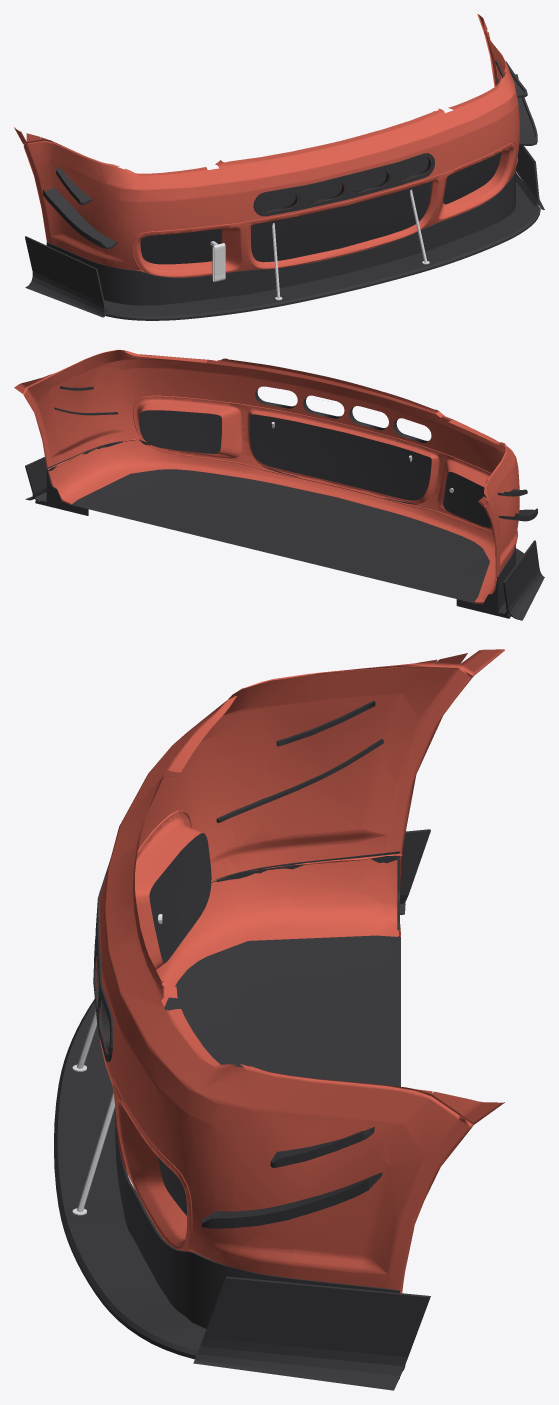
Rendered from wendtStrom_frontBumper_trackWild.glb.
3 views of the same model, one above another, from view 1: azimuth 30°, elevation 25°; view 2: azimuth 150°, elevation 25°; view 3: azimuth 270°, elevation 25° (orthographic). The views are drawn at different scales.
Visible parts, largest first — view 1: frontBumper_trackWild; view 2: frontBumper_trackWild; view 3: frontBumper_trackWild.
Part boxes in pixels (left/top/right/bottom): frontBumper_trackWild: left=14, top=14, right=544, bottom=320; frontBumper_trackWild: left=14, top=349, right=544, bottom=620; frontBumper_trackWild: left=54, top=649, right=504, bottom=1390.
Size of the model in its own units: 1.85 by 0.4829 by 0.7266.
